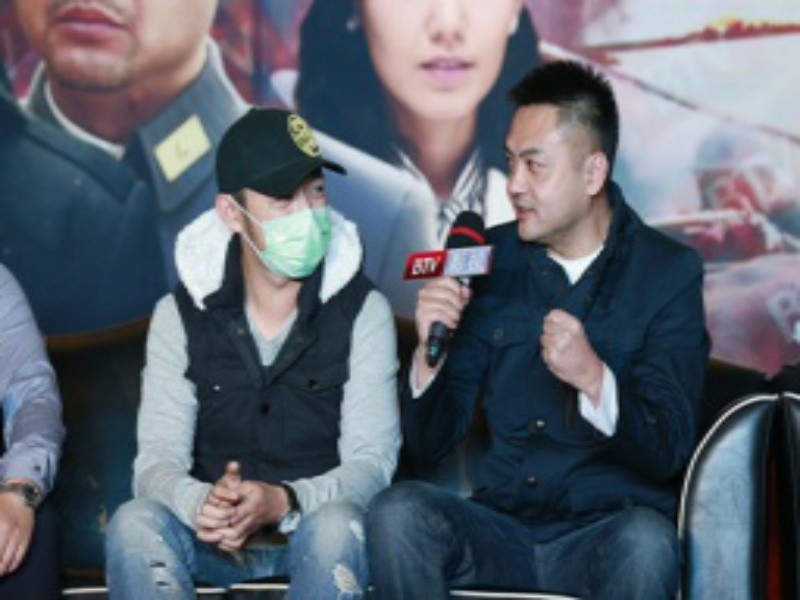ManaoArotava: (211, 115, 345, 285)
TsisyArotava: (489, 77, 618, 260)
